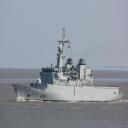Fragata: (12, 26, 124, 104)
